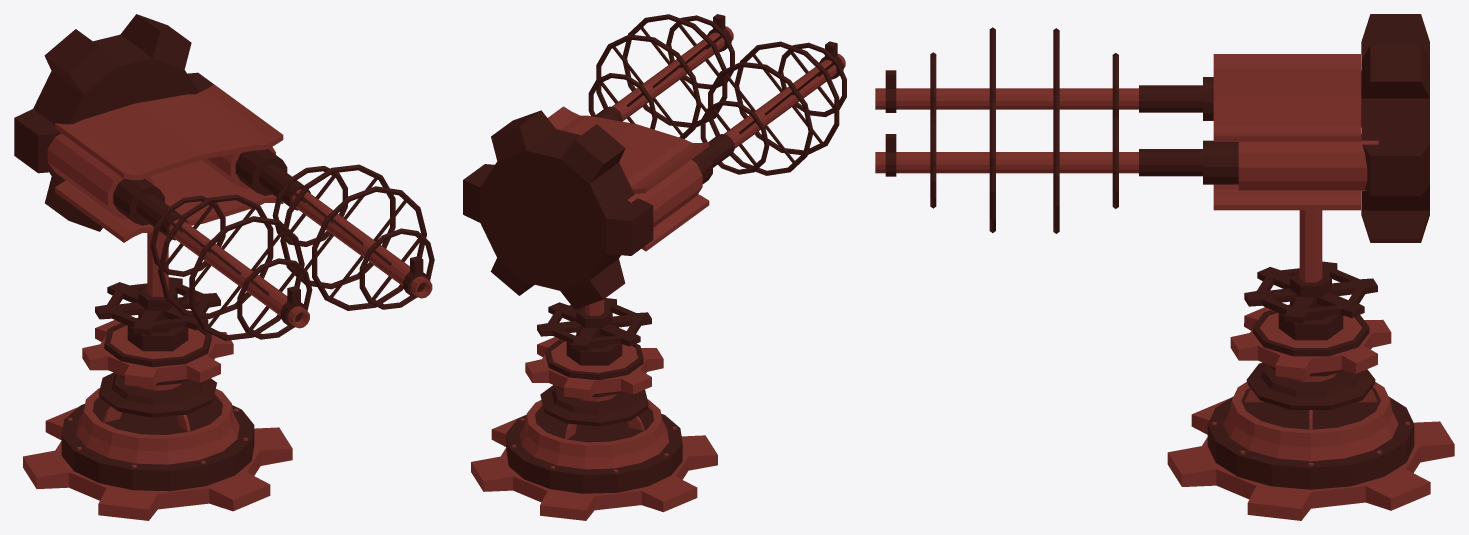
File: Laser_Doble.glb
3 renders of one model, left to right at view 1: azimuth 30°, elevation 25°; view 2: azimuth 150°, elevation 25°; view 3: azimuth 270°, elevation 25°, orthographic. The views are drawn at different scales.
Visible parts, largest first — view 1: Laser_Doble_Gun, Laser_Doble_Base, Laser_Doble_Mid; view 2: Laser_Doble_Gun, Laser_Doble_Base, Laser_Doble_Mid; view 3: Laser_Doble_Gun, Laser_Doble_Base, Laser_Doble_Mid.
Part boxes in pixels (bbox=[...]): Laser_Doble_Gun: bbox=[14, 14, 434, 340]; Laser_Doble_Base: bbox=[23, 318, 292, 520]; Laser_Doble_Mid: bbox=[95, 231, 220, 351]; Laser_Doble_Gun: bbox=[463, 14, 846, 309]; Laser_Doble_Base: bbox=[471, 337, 717, 520]; Laser_Doble_Mid: bbox=[537, 298, 651, 365]; Laser_Doble_Gun: bbox=[875, 14, 1429, 242]; Laser_Doble_Base: bbox=[1167, 304, 1454, 520]; Laser_Doble_Mid: bbox=[1244, 210, 1377, 340].
Size of the model in its own units: 0.9454 by 1.54 by 1.86.
